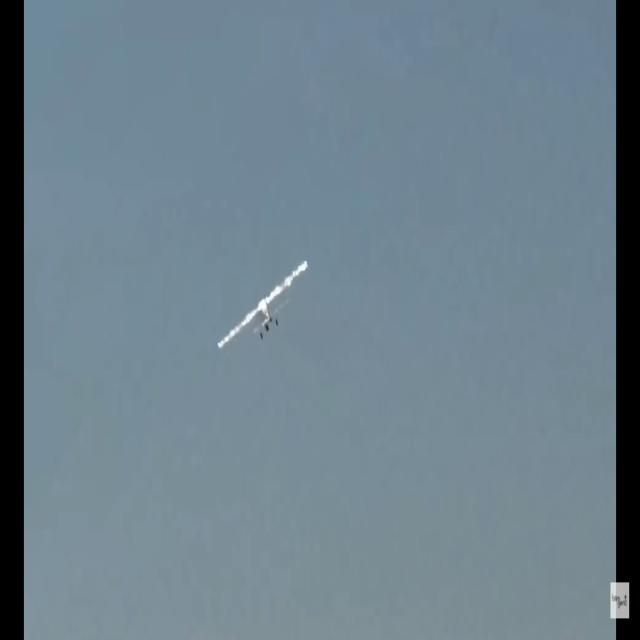iha: (243, 294, 269, 319)
